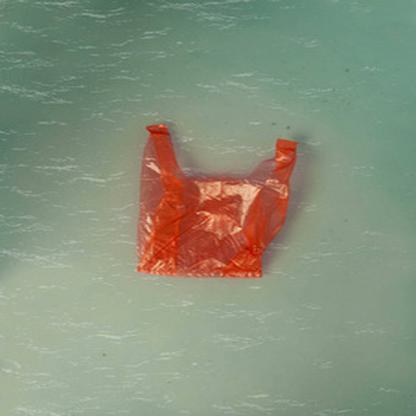plastic bag: (135, 123, 298, 277)
